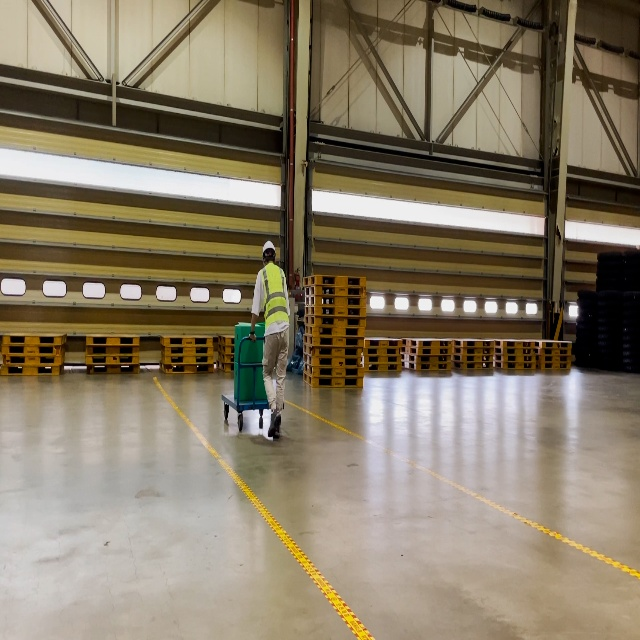Box: (234, 321, 266, 362), (234, 363, 267, 401)
Worker: (249, 240, 290, 439)
